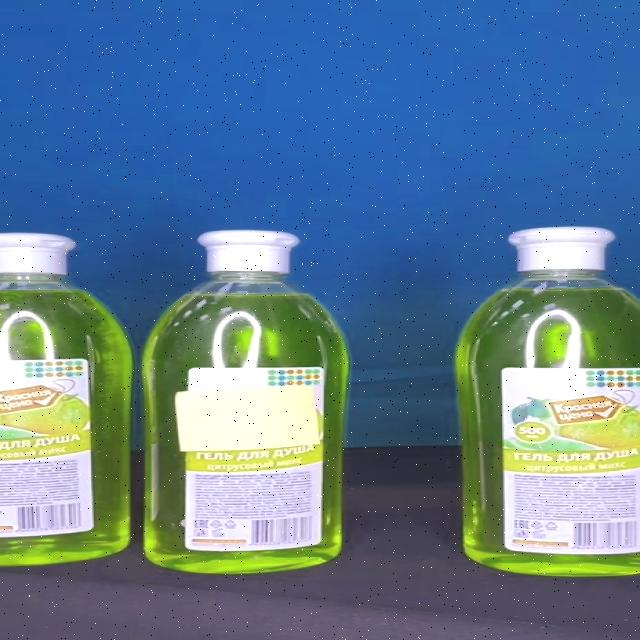Bottle: (143, 229, 350, 573), (455, 227, 640, 578)
Cap: (510, 227, 614, 271), (198, 230, 300, 273)
